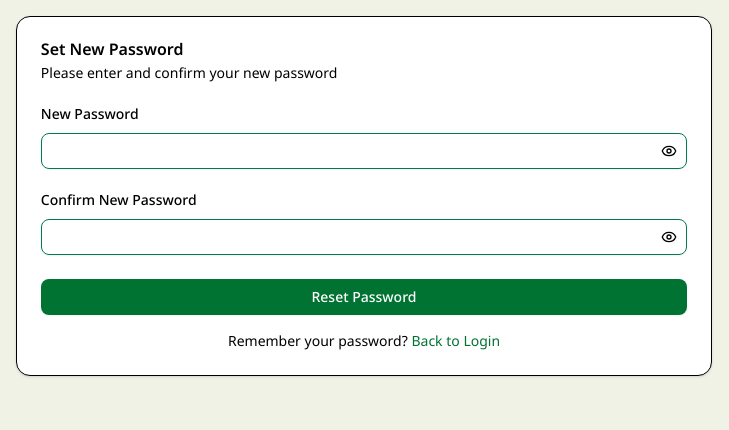
Scenario: SetNewPassword › shows generic error message for non-Error exceptions
Type "Password1!" into the password field labelled "New Password".
click(364, 151); type("Password1!")  # box left=41, top=133, right=687, bottom=169
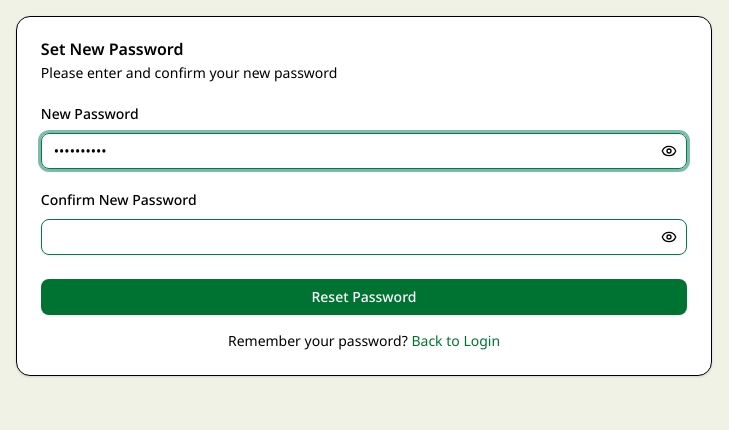
Type "Password1!" into the password field labelled "Confirm New Password".
click(364, 237); type("Password1!")  # box left=41, top=219, right=687, bottom=255
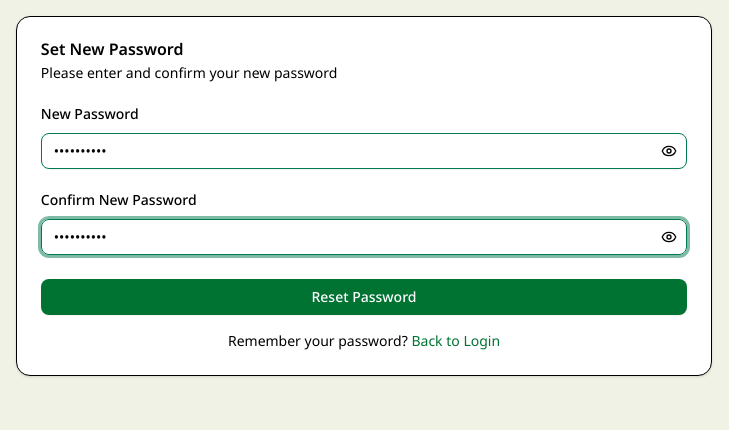
Click the button "Reset Password".
click(364, 297)  # box left=41, top=279, right=687, bottom=315
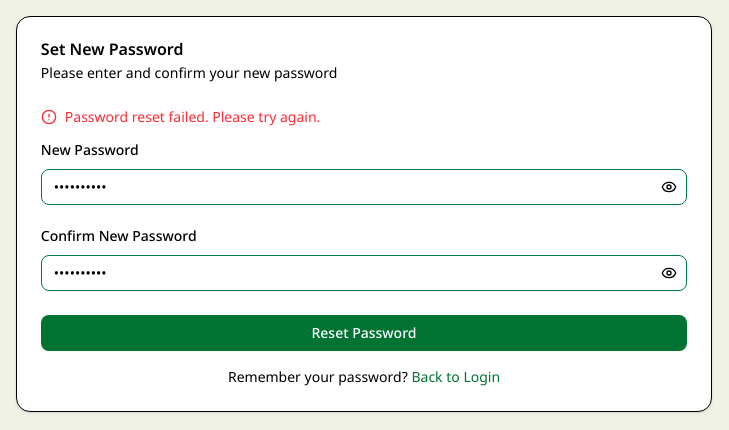
Now the text "Password reset failed. Please try again." is shown, box left=65, top=107, right=320, bottom=127
